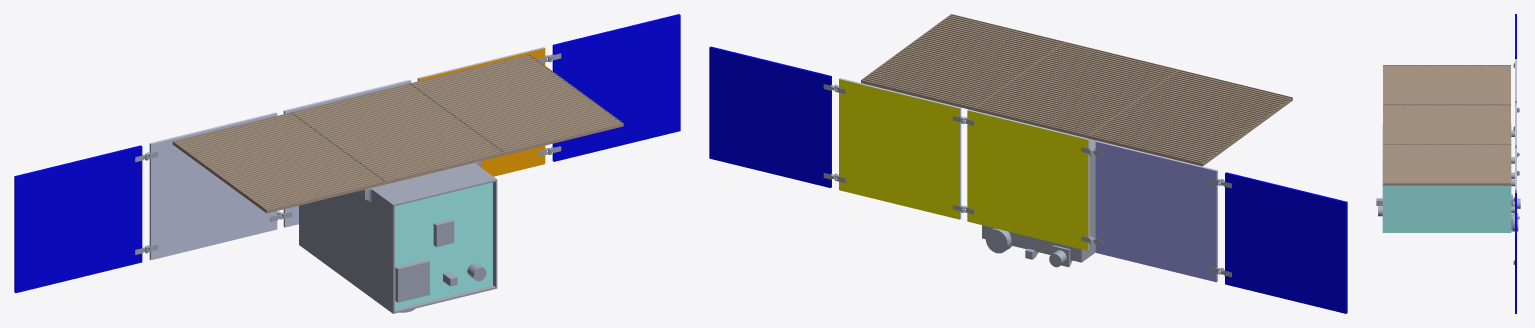
File: Lumir-X Test-A.gltf
The picture shows the model from 3 angles, left to right: view 1: azimuth 30°, elevation 25°; view 2: azimuth 150°, elevation 25°; view 3: azimuth 270°, elevation 25°; orthographic projection. The views are drawn at different scales.
Visible parts, largest first — view 1: LUMIR-X-240508_1, 1202_Solar_Panel#3__X2_ae30bcf8_X0_, 1202_Solar_Panel#3__X2_ae30bcf8_X0_001, 1202_Solar_Panel#2__X2_ae30bcf8_X0_001, SAM Radiating-01__X2_ae30bcf8_X0_001, SAM Radiating-01__X2_ae30bcf8_X0_005, SAM Radiating-01__X2_ae30bcf8_X0_003, SAM Radiating-01__X2_ae30bcf8_X0_, SAM Radiating-01__X2_ae30bcf8_X0_002, SAM Radiating-01__X2_ae30bcf8_X0_004, 1202_Solar_Panel#2__X2_ae30bcf8_X0_002, 1202_Solar_Panel#2__X2_ae30bcf8_X0_; view 2: 1202_Solar_Panel#3__X2_ae30bcf8_X0_, 1202_Solar_Panel#3__X2_ae30bcf8_X0_001, 1202_Solar_Panel#2__X2_ae30bcf8_X0_001, 1202_Solar_Panel#2__X2_ae30bcf8_X0_, 1202_Solar_Panel#2__X2_ae30bcf8_X0_002, SAM Radiating-01__X2_ae30bcf8_X0_, SAM Radiating-01__X2_ae30bcf8_X0_002, SAM Radiating-01__X2_ae30bcf8_X0_004, SAM Radiating-01__X2_ae30bcf8_X0_001, SAM Radiating-01__X2_ae30bcf8_X0_003, SAM Radiating-01__X2_ae30bcf8_X0_005, LUMIR-X-240508_1; view 3: LUMIR-X-240508_1, SAM Radiating-01__X2_ae30bcf8_X0_004, SAM Radiating-01__X2_ae30bcf8_X0_005, SAM Radiating-01__X2_ae30bcf8_X0_, SAM Radiating-01__X2_ae30bcf8_X0_001, SAM Radiating-01__X2_ae30bcf8_X0_002, SAM Radiating-01__X2_ae30bcf8_X0_003, 1202_Solar_Panel#3__X2_ae30bcf8_X0_001.
Boxes of the visible parts, x1,y1,x2,y2 form: LUMIR-X-240508_1: [299, 161, 497, 313]; 1202_Solar_Panel#3__X2_ae30bcf8_X0_: [14, 145, 142, 292]; 1202_Solar_Panel#3__X2_ae30bcf8_X0_001: [552, 14, 680, 161]; 1202_Solar_Panel#2__X2_ae30bcf8_X0_001: [149, 112, 277, 260]; SAM Radiating-01__X2_ae30bcf8_X0_001: [219, 147, 385, 213]; SAM Radiating-01__X2_ae30bcf8_X0_005: [458, 88, 623, 155]; SAM Radiating-01__X2_ae30bcf8_X0_003: [339, 118, 504, 184]; SAM Radiating-01__X2_ae30bcf8_X0_: [172, 112, 338, 178]; SAM Radiating-01__X2_ae30bcf8_X0_002: [292, 83, 457, 146]; SAM Radiating-01__X2_ae30bcf8_X0_004: [411, 54, 575, 117]; 1202_Solar_Panel#2__X2_ae30bcf8_X0_002: [417, 47, 545, 176]; 1202_Solar_Panel#2__X2_ae30bcf8_X0_: [283, 79, 411, 227]; 1202_Solar_Panel#3__X2_ae30bcf8_X0_: [1225, 172, 1347, 313]; 1202_Solar_Panel#3__X2_ae30bcf8_X0_001: [709, 46, 831, 187]; 1202_Solar_Panel#2__X2_ae30bcf8_X0_001: [1095, 140, 1217, 282]; 1202_Solar_Panel#2__X2_ae30bcf8_X0_: [967, 109, 1089, 250]; 1202_Solar_Panel#2__X2_ae30bcf8_X0_002: [839, 78, 961, 219]; SAM Radiating-01__X2_ae30bcf8_X0_: [1089, 102, 1247, 166]; SAM Radiating-01__X2_ae30bcf8_X0_002: [975, 75, 1133, 138]; SAM Radiating-01__X2_ae30bcf8_X0_004: [861, 47, 1019, 110]; SAM Radiating-01__X2_ae30bcf8_X0_001: [1134, 69, 1292, 132]; SAM Radiating-01__X2_ae30bcf8_X0_003: [1020, 42, 1178, 102]; SAM Radiating-01__X2_ae30bcf8_X0_005: [906, 14, 1064, 74]; LUMIR-X-240508_1: [982, 139, 1096, 267]; LUMIR-X-240508_1: [1376, 124, 1520, 232]; SAM Radiating-01__X2_ae30bcf8_X0_004: [1447, 144, 1510, 185]; SAM Radiating-01__X2_ae30bcf8_X0_005: [1383, 144, 1446, 185]; SAM Radiating-01__X2_ae30bcf8_X0_: [1447, 65, 1510, 104]; SAM Radiating-01__X2_ae30bcf8_X0_001: [1383, 65, 1446, 104]; SAM Radiating-01__X2_ae30bcf8_X0_002: [1447, 104, 1510, 143]; SAM Radiating-01__X2_ae30bcf8_X0_003: [1383, 104, 1446, 143]; 1202_Solar_Panel#3__X2_ae30bcf8_X0_001: [1515, 193, 1516, 313].
Bounding box in the file's own units: 4.15 × 0.8469 × 1.15.
